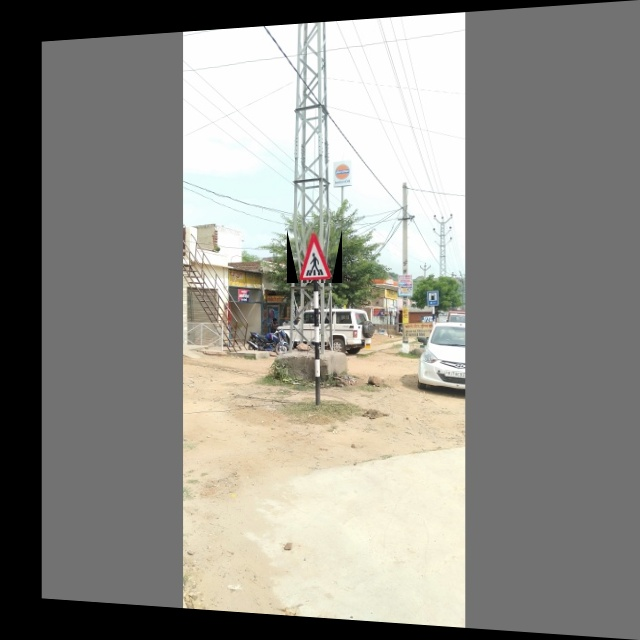Pedestrian_Crossing: (287, 229, 342, 283)
